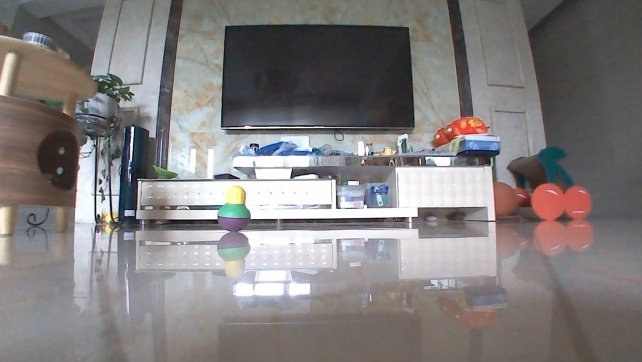TV_stand: (130, 145, 502, 226)
wire: (330, 129, 346, 142)
